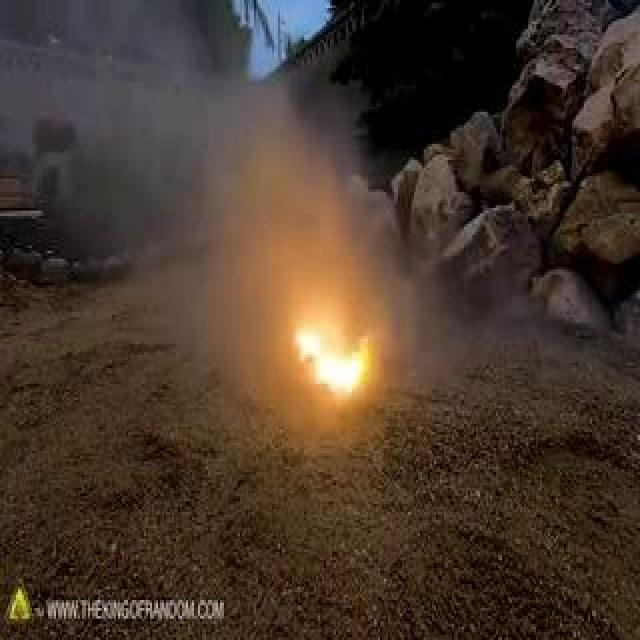Fire: (287, 309, 375, 403)
